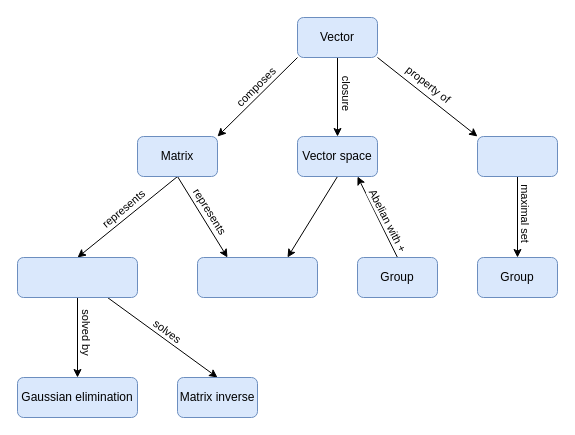
Some shapes in this 575 by 435 pixel diagram are drawn without their labels. Here are the shapes that lost their labels. From the top down, the centre of each, then its label:
(x=517, y=156): Linear independence
(x=77, y=277): System of linear equations
(x=257, y=277): Linear/affine mapping
